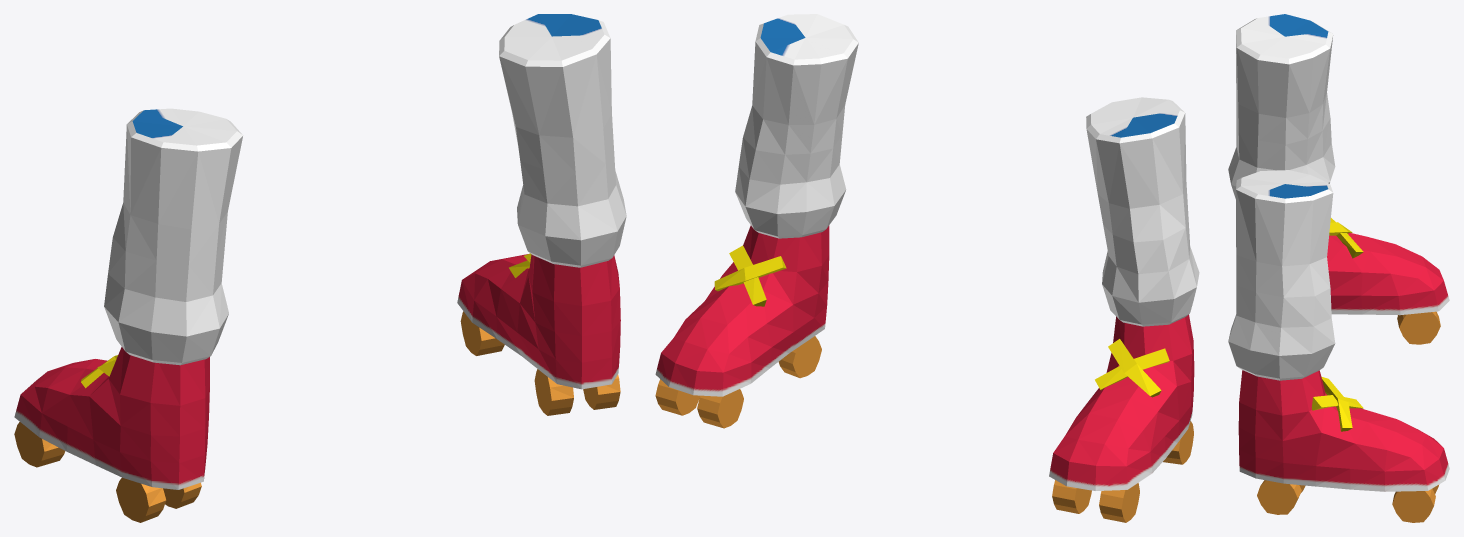
The picture shows the model from 3 angles, left to right: view 1: azimuth 30°, elevation 25°; view 2: azimuth 150°, elevation 25°; view 3: azimuth 270°, elevation 25°; orthographic projection. The views are drawn at different scales.
Visible parts, largest first — view 1: geometry_0; view 2: geometry_0; view 3: geometry_0.
Part boxes in pixels (left/top/right/bottom): geometry_0: left=14, top=14, right=626, bottom=522; geometry_0: left=655, top=14, right=1199, bottom=522; geometry_0: left=1228, top=14, right=1449, bottom=522.
Size of the model in its own units: 1.77 by 1.21 by 0.778.
Materials: 1 (1 with a texture image).
